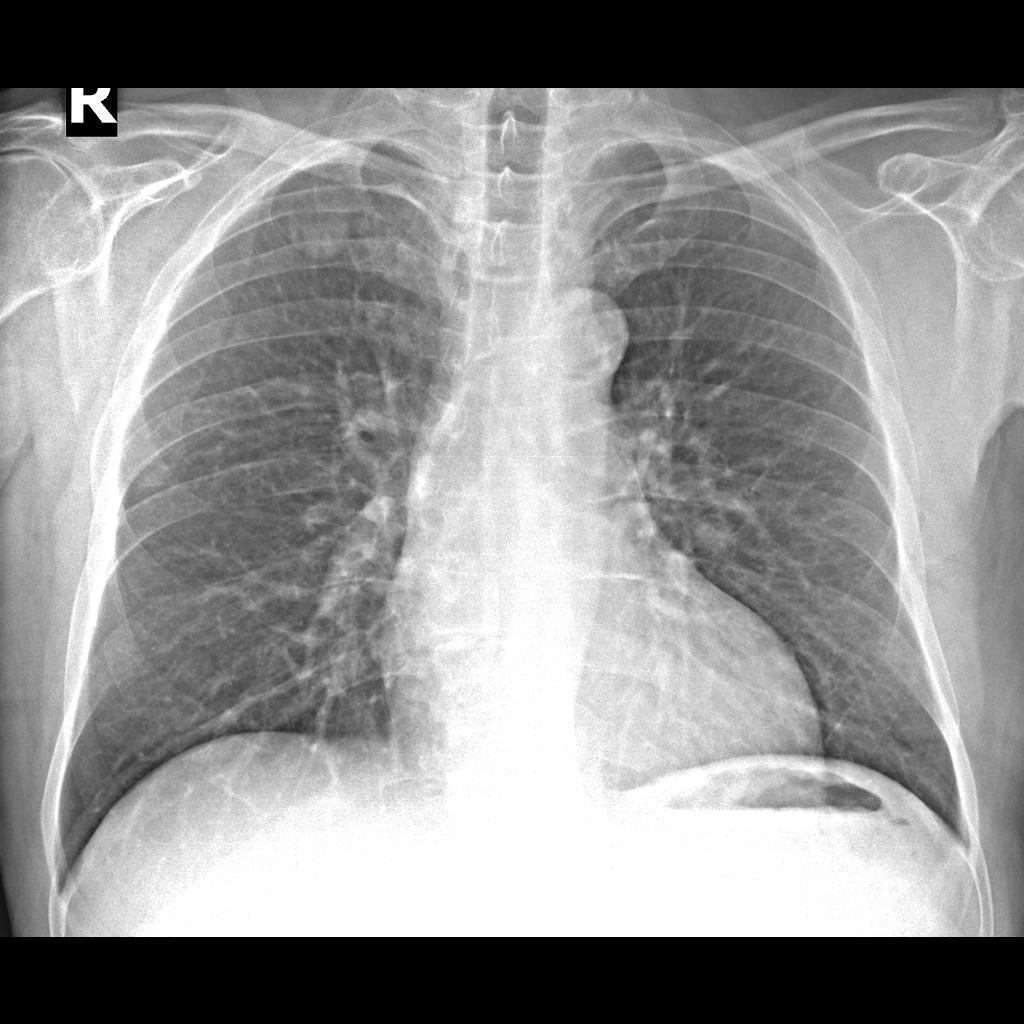Nodule: (280, 209, 368, 273)
